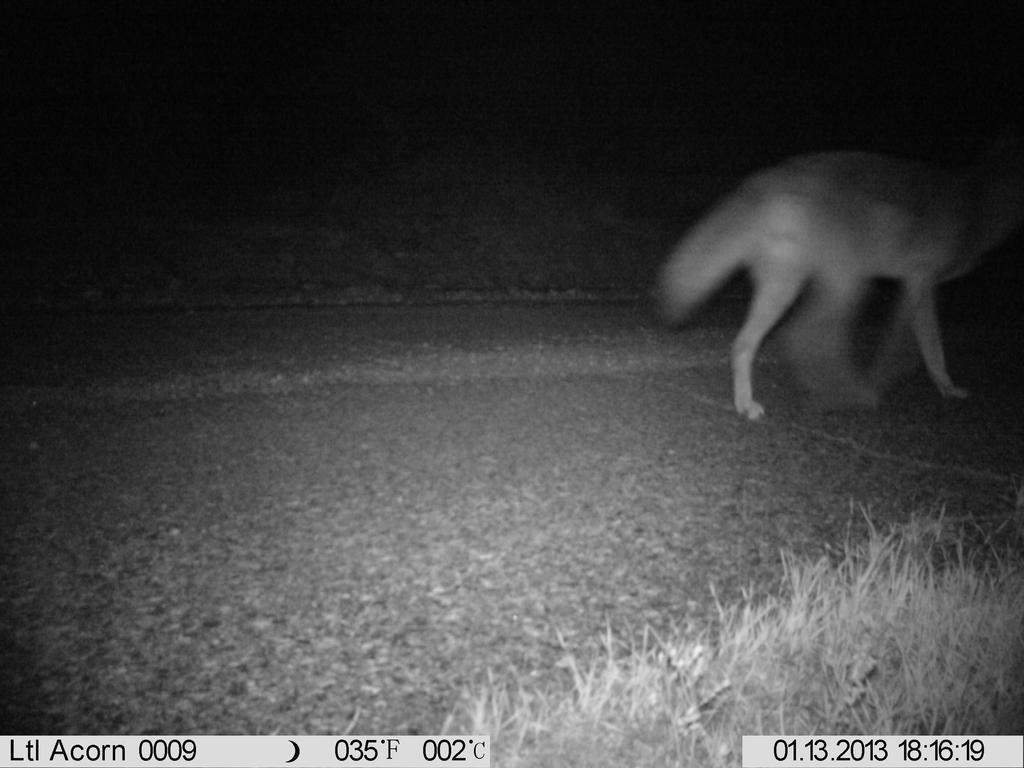coyote: (656, 143, 1021, 425)
